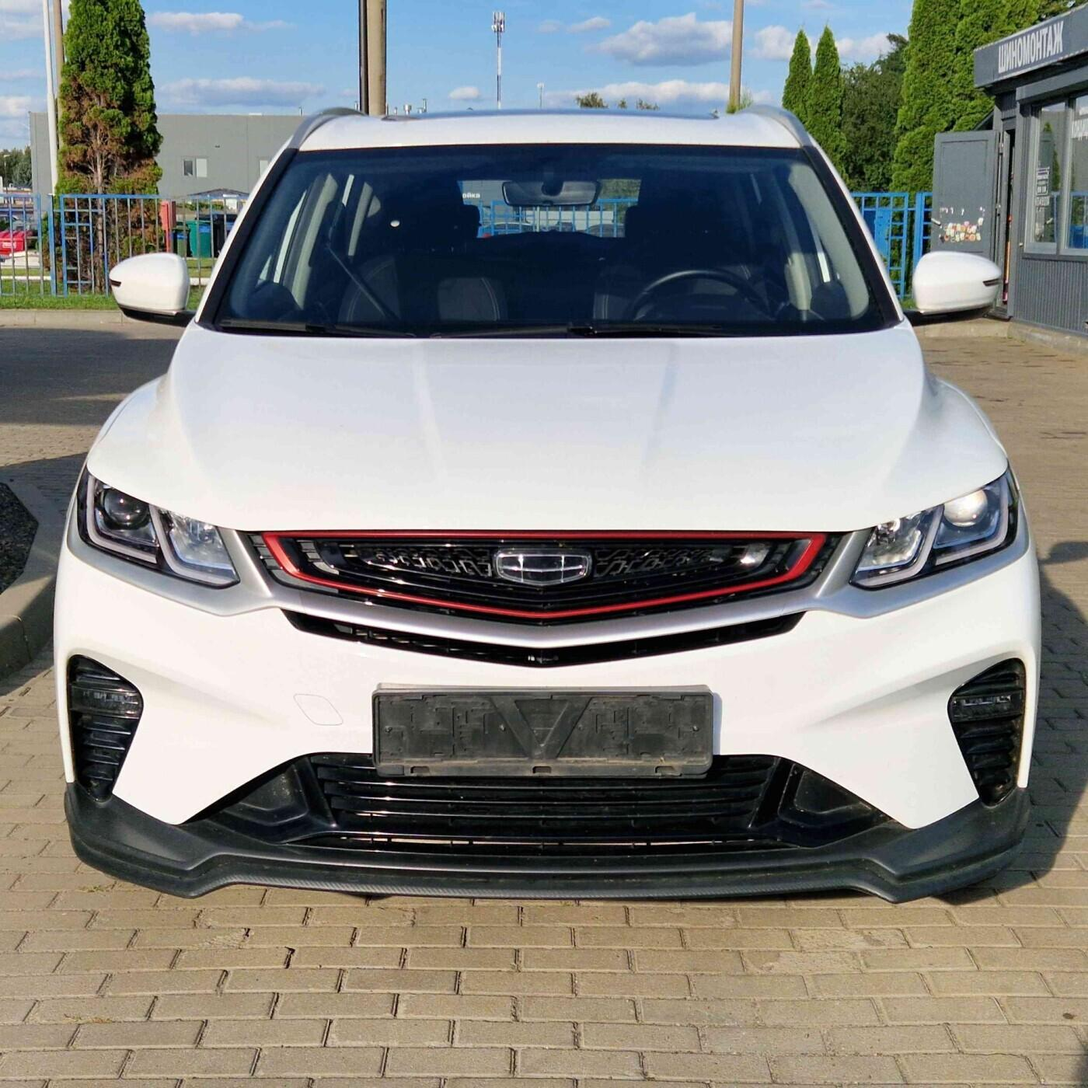Coolray_2019-2023: (50, 84, 1048, 923)
